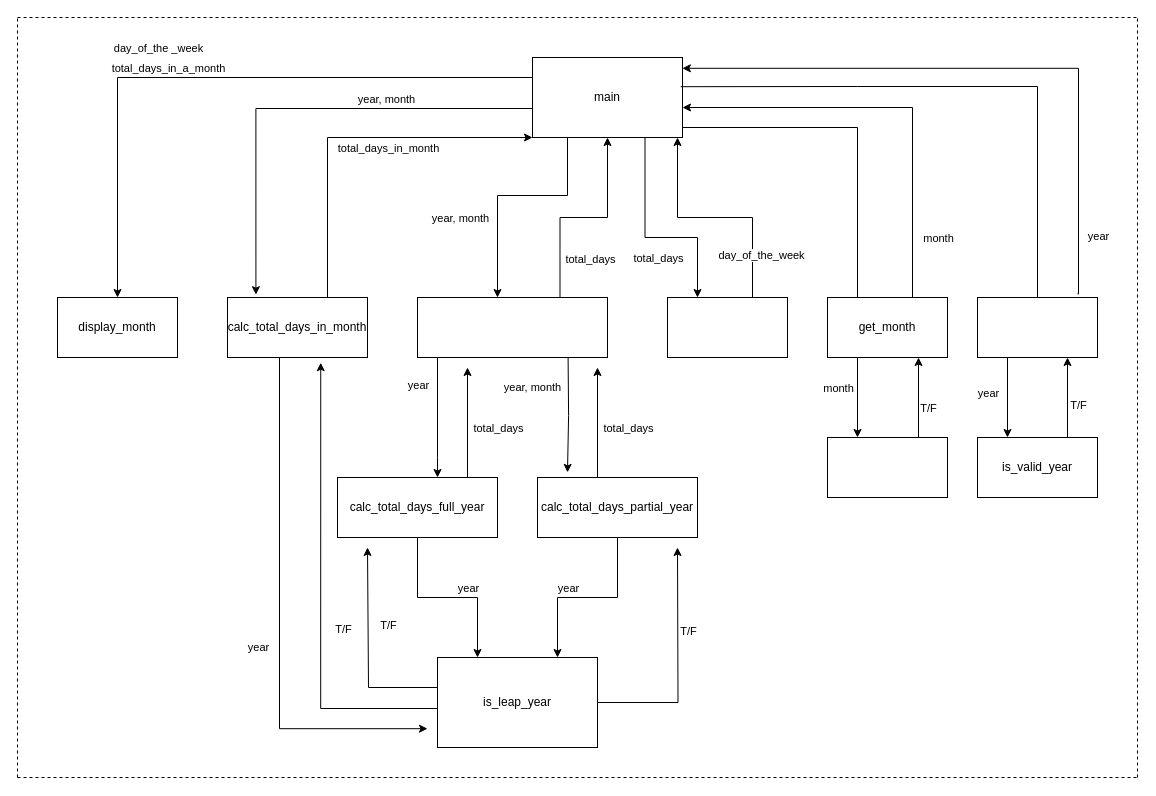
Some shapes in this 1156 by 796 pixel diagram are drawn without their labels. Here are the shapes that lost their labels. From the top down, the box of each, then its label:
(416, 296, 608, 358): calc_total_days
(666, 296, 788, 358): calc_day_of_week
(976, 296, 1098, 358): get_year
(826, 436, 948, 498): is_valid_month
